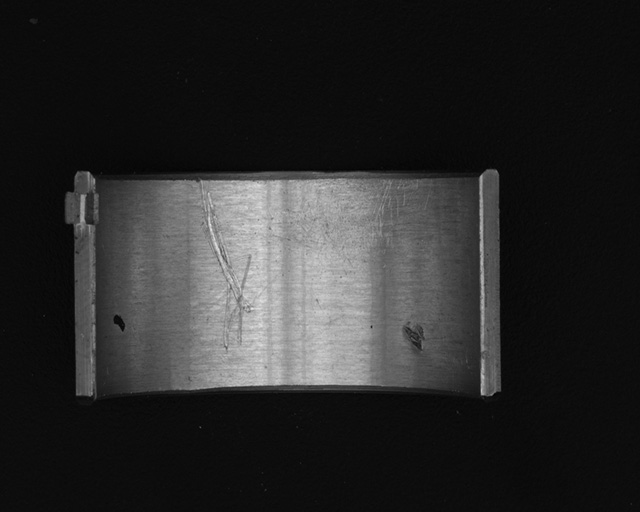blot: (111, 314, 127, 334)
bruise: (402, 322, 426, 353)
nick: (194, 180, 254, 353)
scratch: (298, 178, 425, 268)
